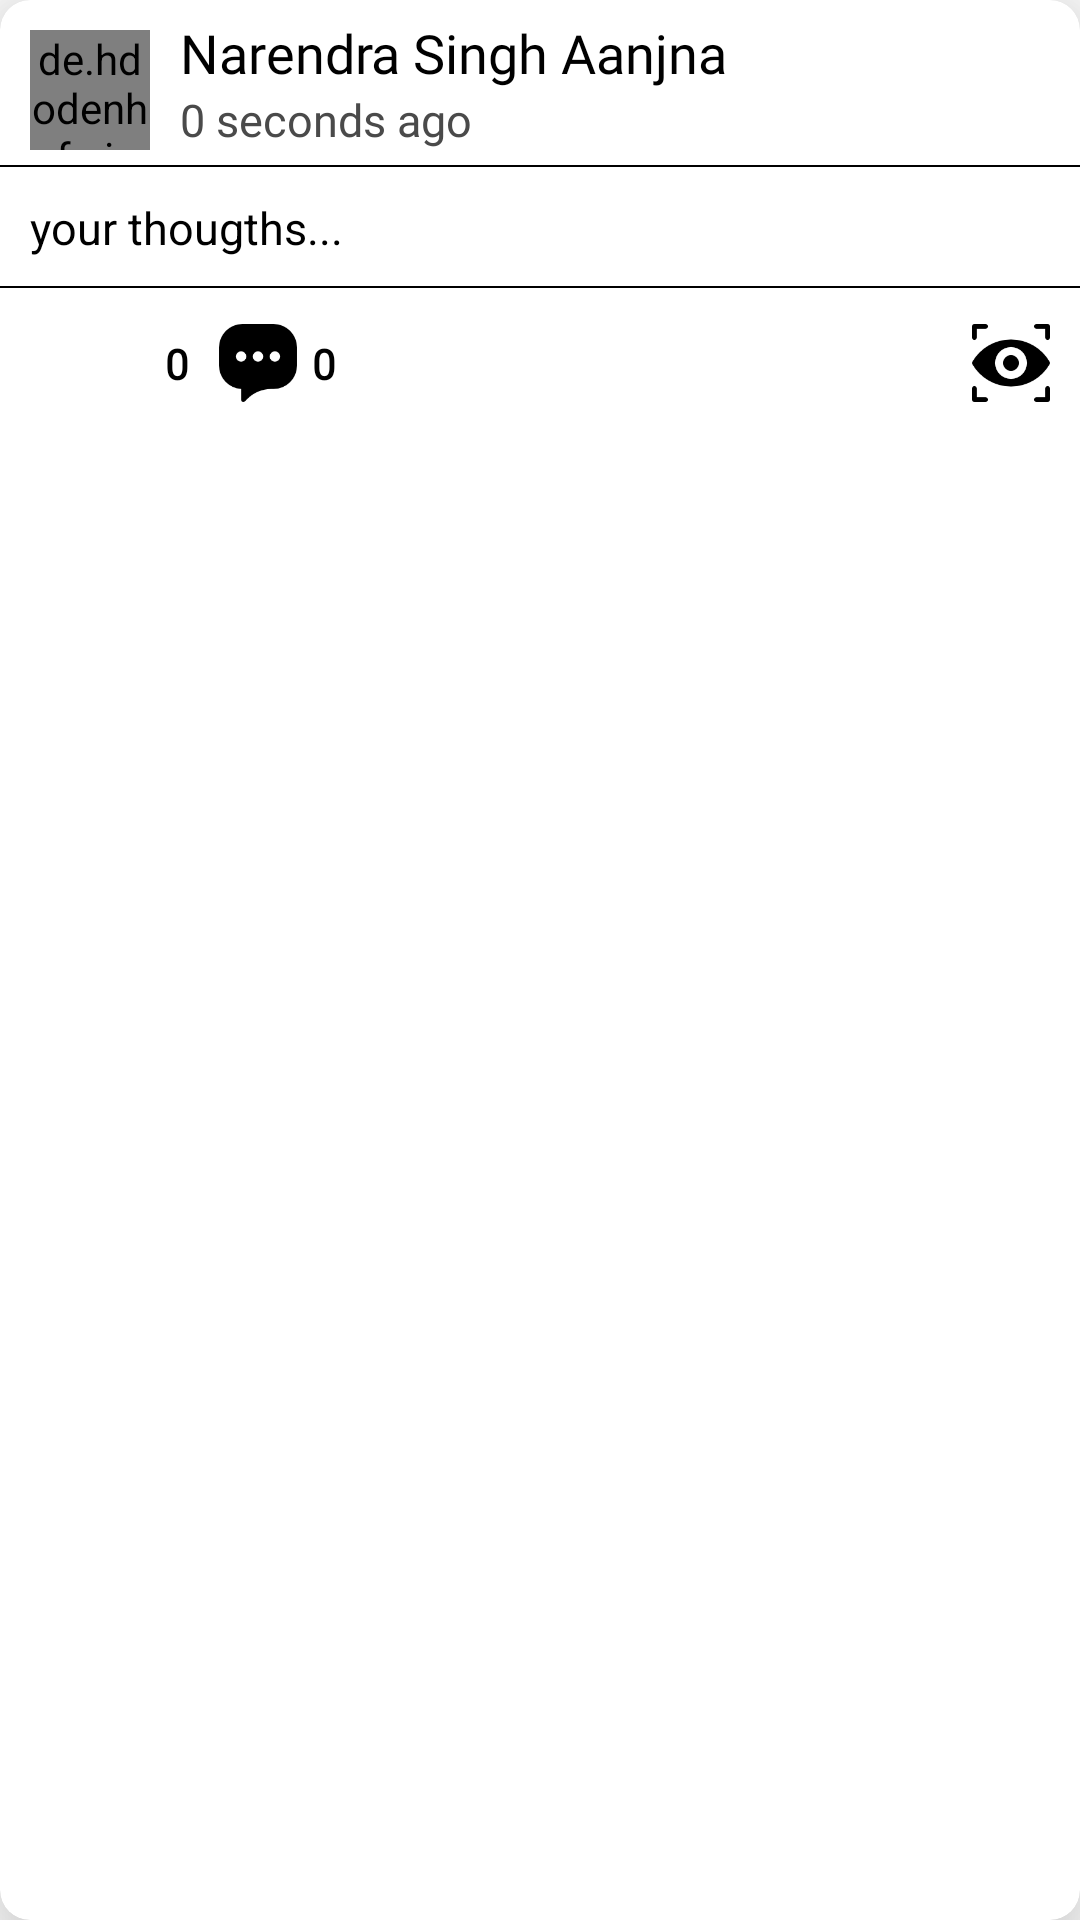

Named icons in this screenshot (1080 x 1920) and their bounding boxes, (x1, y1, x2, y2):
comment: (219, 324, 297, 402)
visible: (972, 324, 1050, 402)
